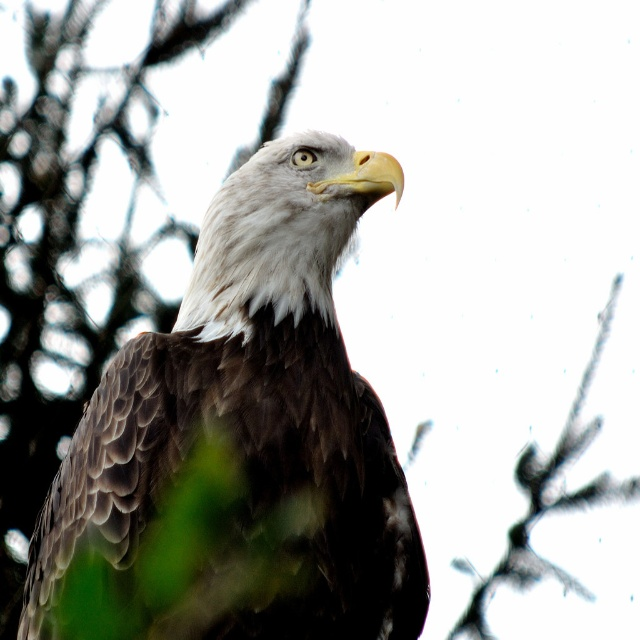Eagle: (14, 133, 430, 640)
